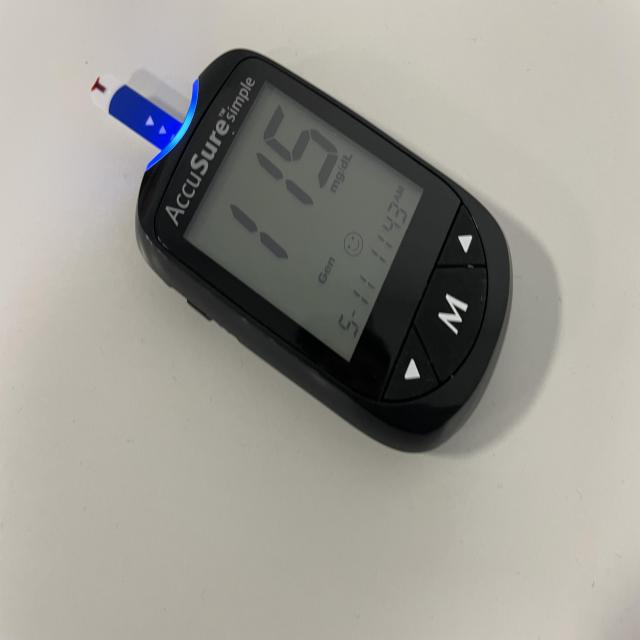gluco: (105, 48, 515, 455)
